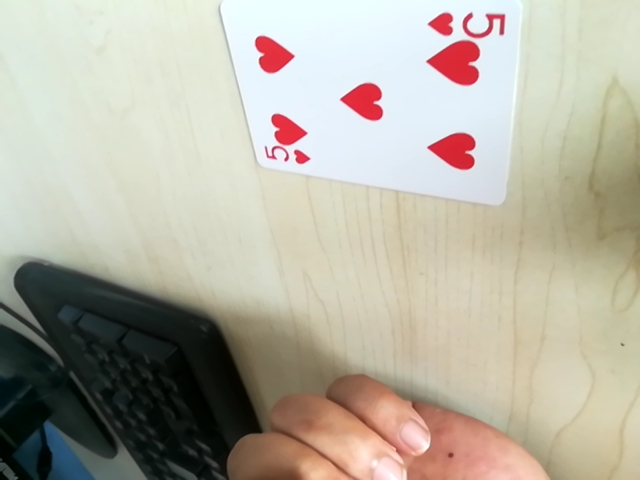hx 5: (427, 4, 506, 40), (259, 142, 313, 172)
